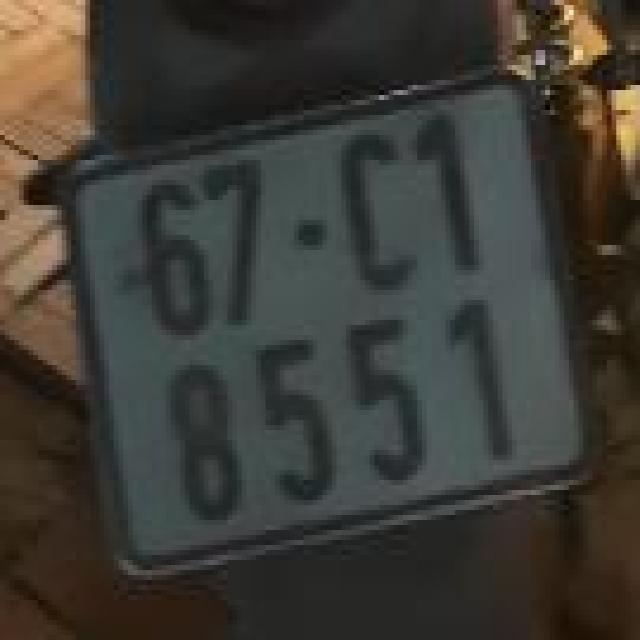1: (431, 291, 527, 479), (402, 109, 487, 289)
5: (242, 330, 348, 519), (344, 318, 431, 490)
6: (125, 174, 224, 353)
7: (193, 154, 294, 335)
8: (155, 357, 259, 537)
C: (329, 124, 432, 307)
